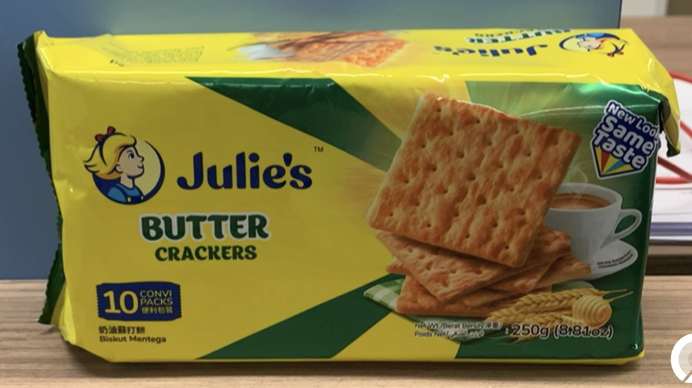crackers_200g-299g: (76, 87, 643, 358)
